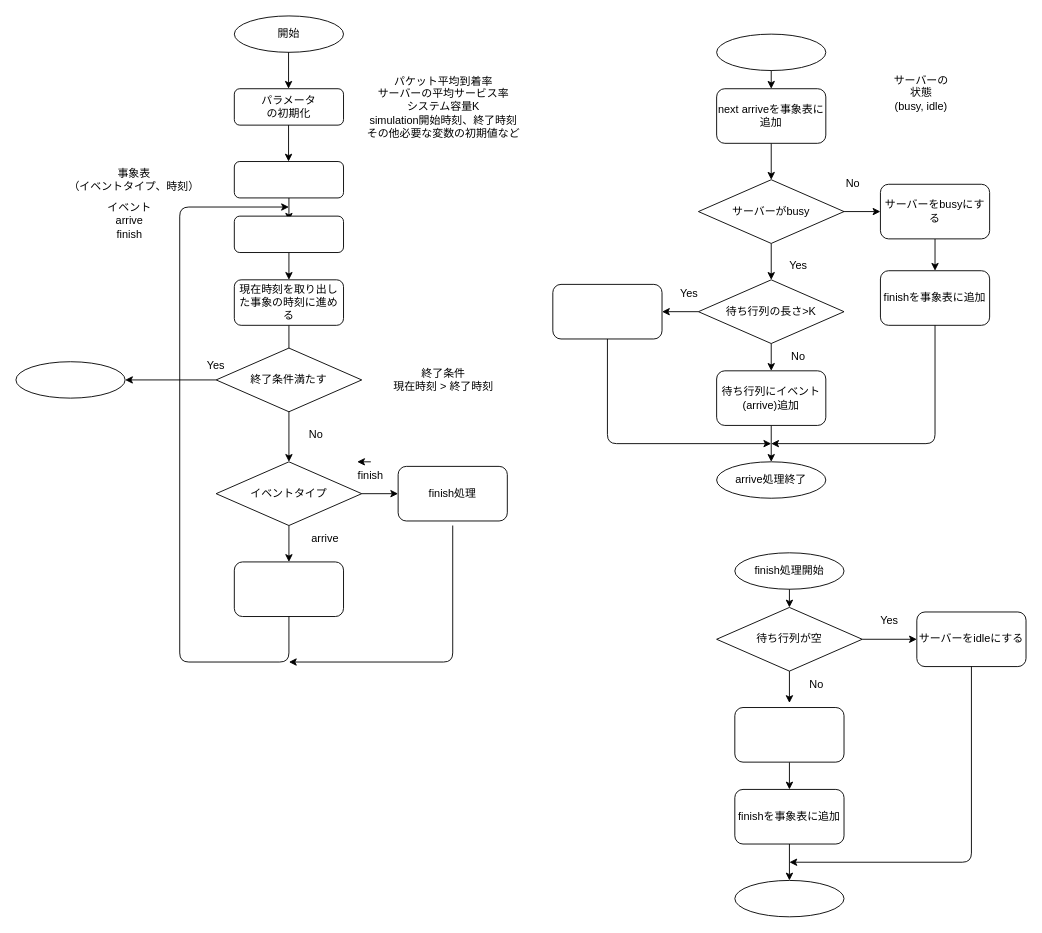
This 1042x933 diagram has some shape labels left out. The box of each missing label's shape, as (x1, y1, x2, y2) in pixels:
arrive処理: (233, 561, 344, 617)
arrive処理開始: (716, 33, 826, 71)
finish処理終了: (734, 880, 844, 917)
パケットロスの回数をカウント: (552, 283, 662, 339)
事象表に最初の事象(arrive)を登録: (233, 161, 344, 198)
待ち行列からイベント(arrive)を取り出す (暗黙的にサーバーをbusyにする): (734, 707, 844, 762)
最も近い将来起こる事象を取り出す: (233, 215, 344, 253)
終了: (15, 361, 125, 398)
